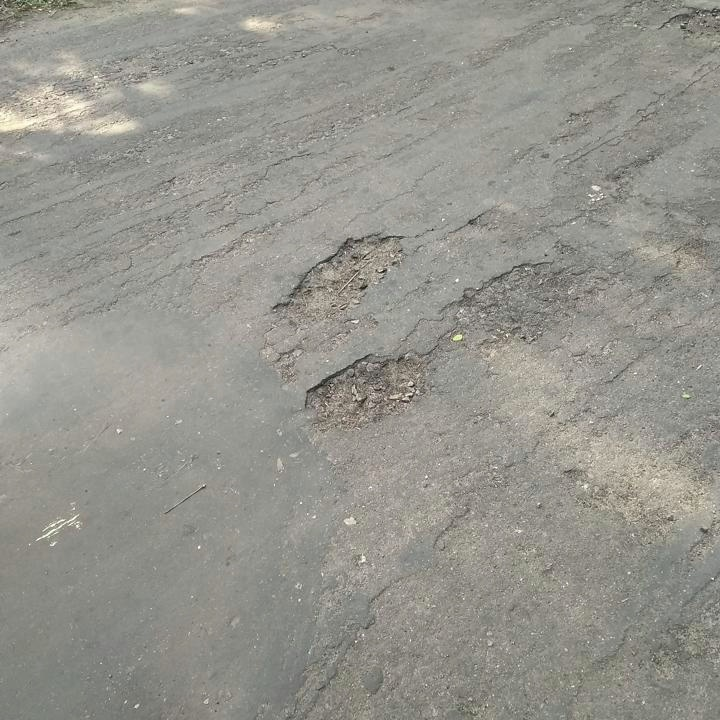pothole: (265, 226, 409, 328), (431, 257, 587, 349), (297, 346, 428, 435)
